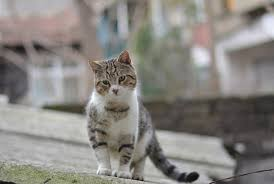cat: (82, 49, 145, 102)
